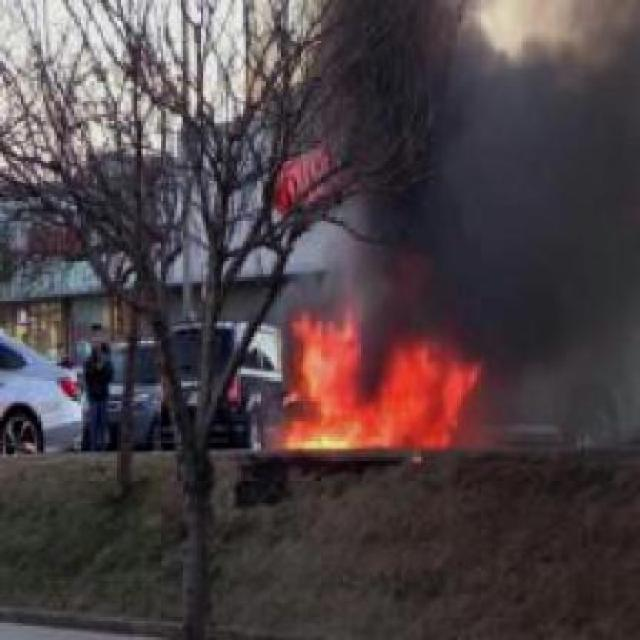Fire: (268, 308, 484, 452)
Smoke: (341, 0, 640, 309)
